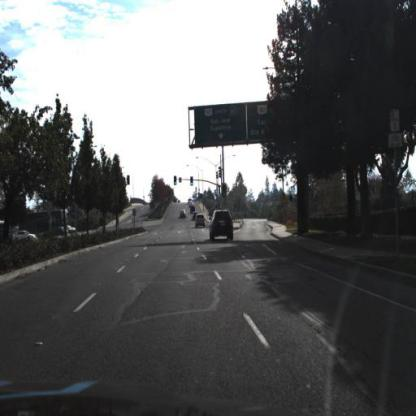car: (211, 211, 235, 241), (12, 231, 38, 243), (194, 211, 207, 234), (50, 226, 68, 238), (196, 214, 206, 228), (68, 226, 77, 236), (180, 210, 188, 220), (193, 211, 198, 223)
trafficLight-Green: (222, 184, 227, 198), (174, 175, 178, 187), (191, 176, 194, 187)
truck: (21, 211, 70, 234)
